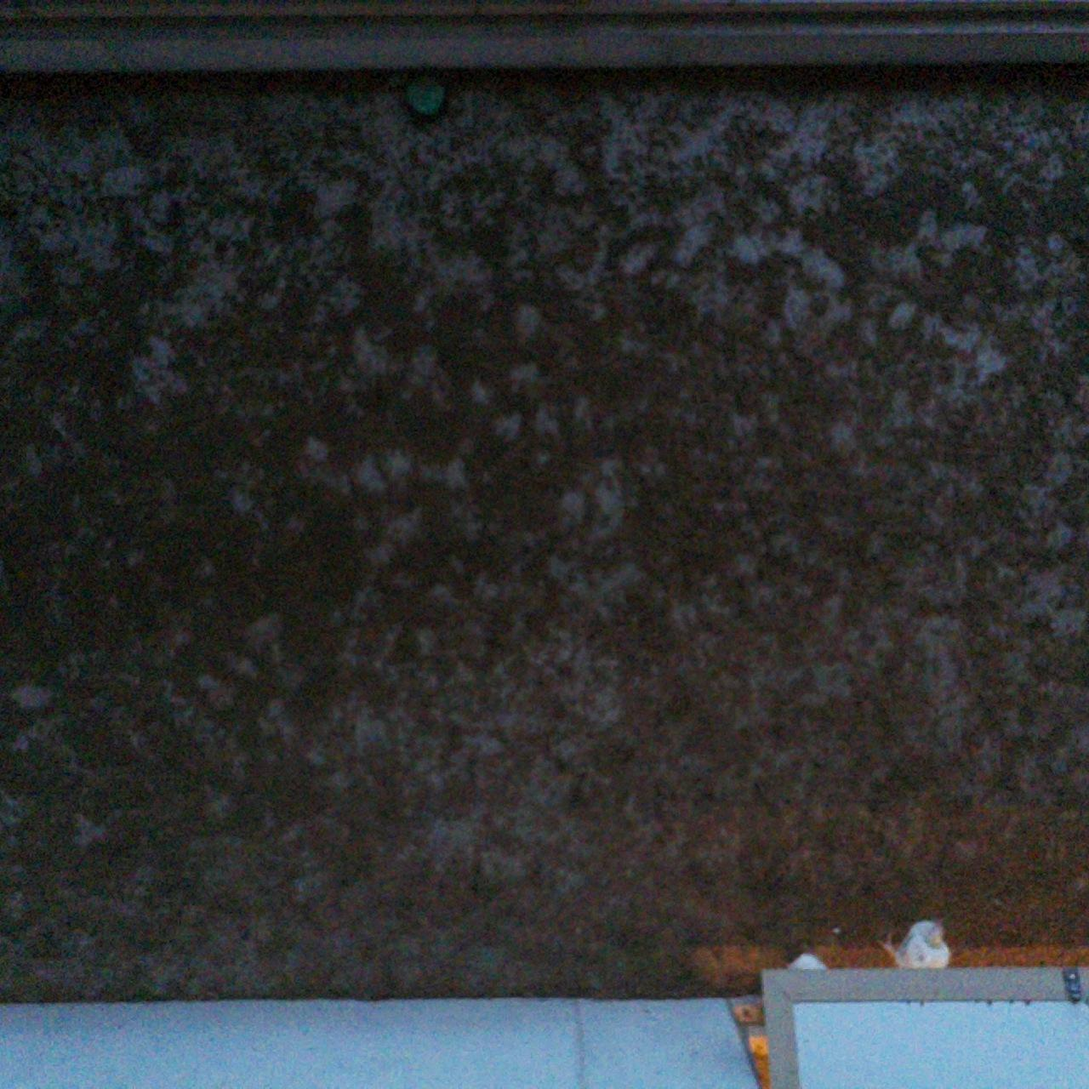chicken: (876, 915, 955, 979), (784, 946, 832, 988)
